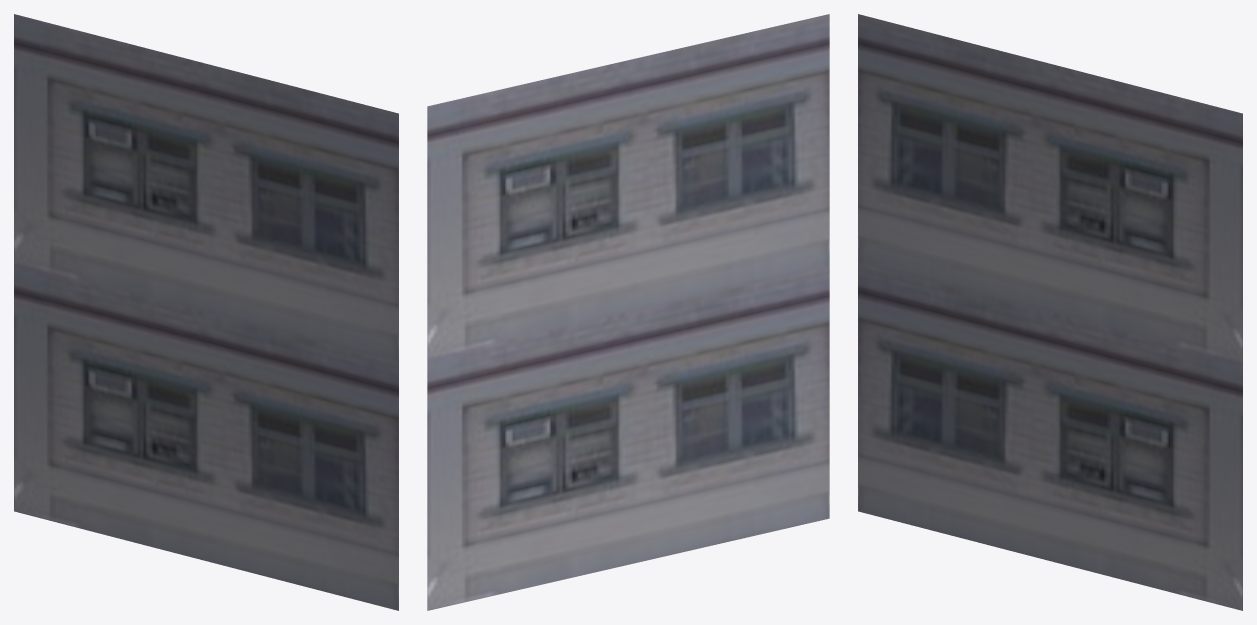
File: ResTex__4129.fbx
3 views of the same model, side by side, from view 1: azimuth 90°, elevation 25°; view 2: azimuth 150°, elevation 25°; view 3: azimuth 270°, elevation 25° (orthographic).
Visible parts, largest first — view 1: CityEngineMaterial_1_m; view 2: CityEngineMaterial_1_m; view 3: CityEngineMaterial_1_m.
Part boxes in pixels (x1,y1,x2,y2): CityEngineMaterial_1_m: (14,14,398,610); CityEngineMaterial_1_m: (427,14,829,610); CityEngineMaterial_1_m: (858,14,1242,610).
Size of the model in its own units: 2.58 by 6 by 4.21.
Materials: 1 (1 with a texture image).
